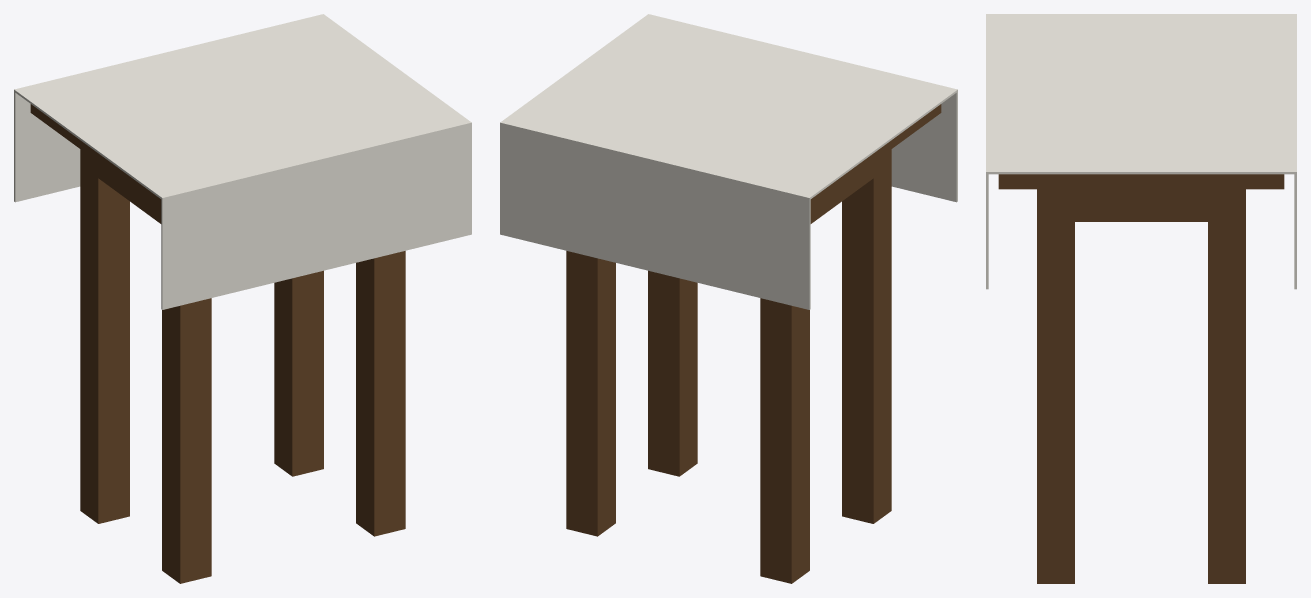
3 views of the same model, side by side, from view 1: azimuth 30°, elevation 25°; view 2: azimuth 150°, elevation 25°; view 3: azimuth 270°, elevation 25° (orthographic). The views are drawn at different scales.
Visible parts, largest first — view 1: parametric-variant-table-1st-pub-66d1535bbf4ad6beb39b; view 2: parametric-variant-table-1st-pub-66d1535bbf4ad6beb39b; view 3: parametric-variant-table-1st-pub-66d1535bbf4ad6beb39b.
Part boxes in pixels (x1,y1,x2,y2): parametric-variant-table-1st-pub-66d1535bbf4ad6beb39b: [14, 14, 471, 583]; parametric-variant-table-1st-pub-66d1535bbf4ad6beb39b: [500, 14, 957, 583]; parametric-variant-table-1st-pub-66d1535bbf4ad6beb39b: [986, 14, 1296, 583].
Size of the model in its own units: 0.59 by 0.754 by 0.49.
